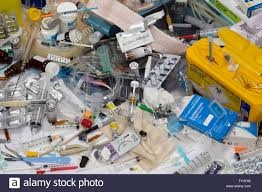plastic: (169, 92, 242, 142), (26, 72, 56, 132), (137, 53, 186, 89), (28, 54, 61, 77), (57, 2, 79, 32)
